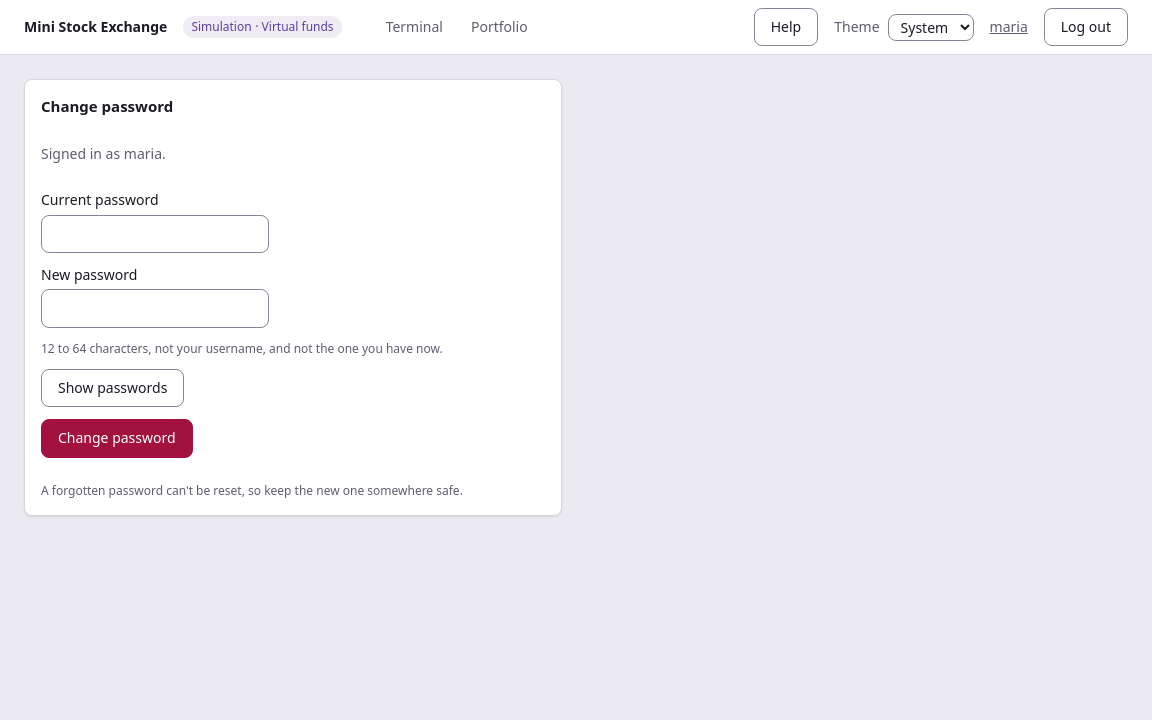
the account page › says when too many wrong passwords mean waiting
Click the button "Change password" at (117, 438), box [41,419,193,458]
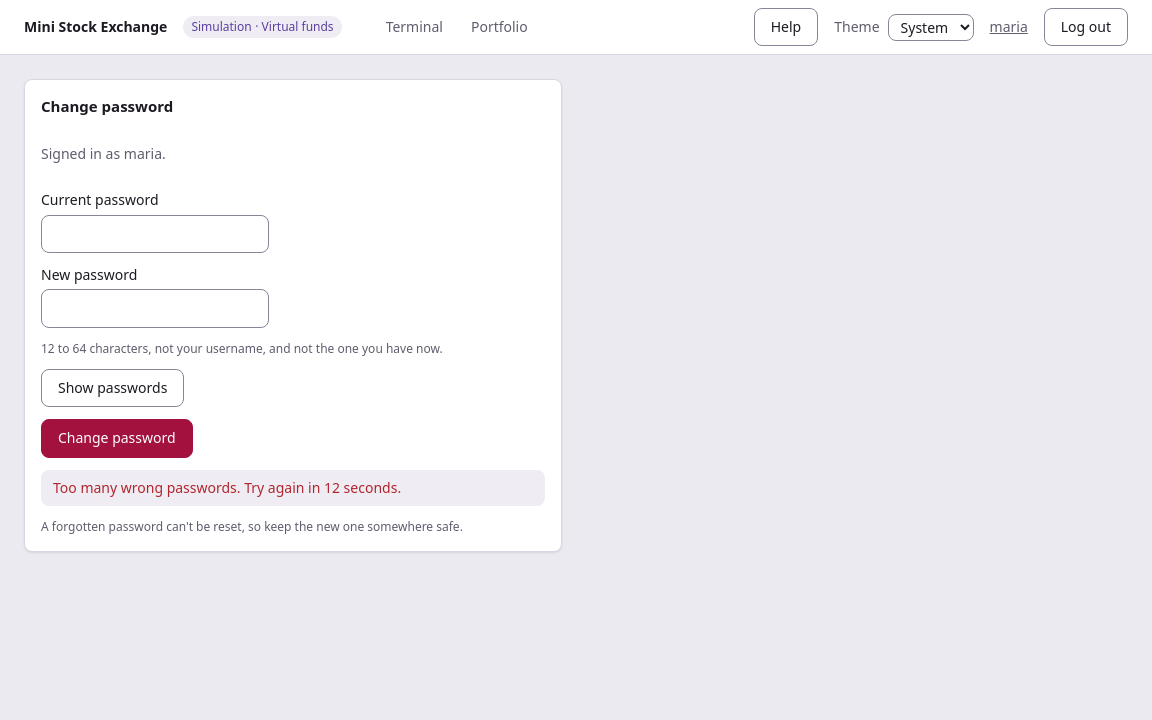
Check: the text "Too many wrong passwords. Try again in 12 seconds." is shown, box [41,470,545,506]
